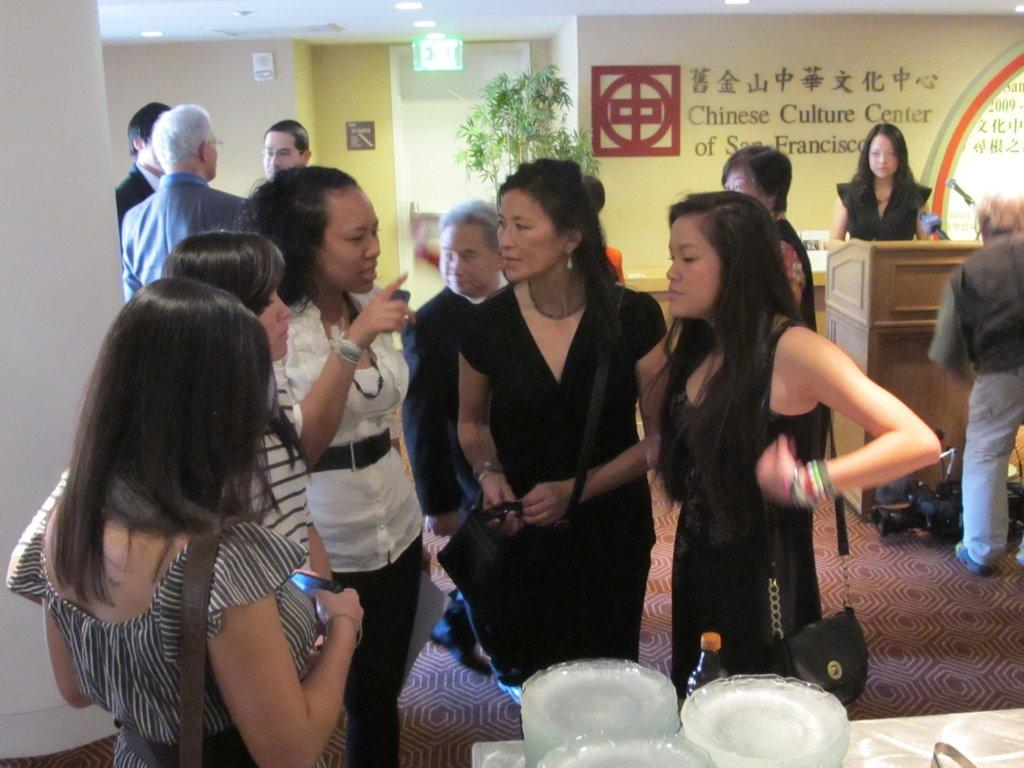Sem Máscara: (491, 186, 564, 285), (325, 185, 376, 298), (666, 213, 718, 317), (437, 220, 491, 300), (256, 279, 294, 352), (718, 158, 757, 202), (261, 129, 299, 172), (866, 132, 896, 175)
